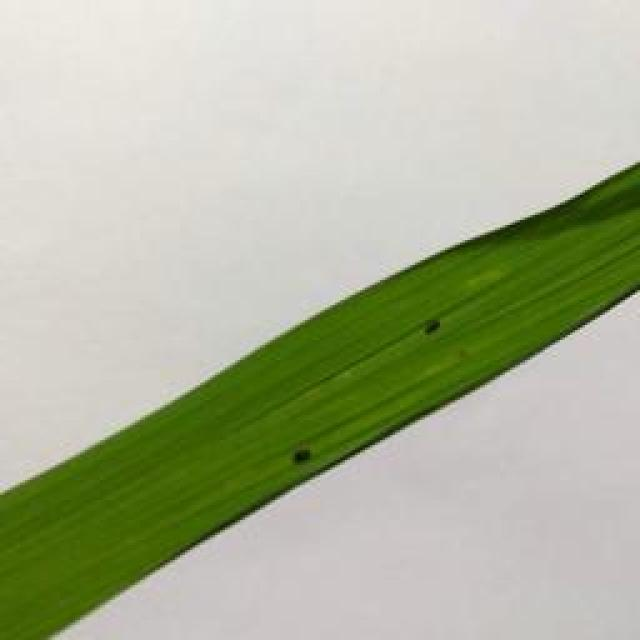Brown_Spot: (276, 440, 324, 475), (417, 313, 442, 341)
